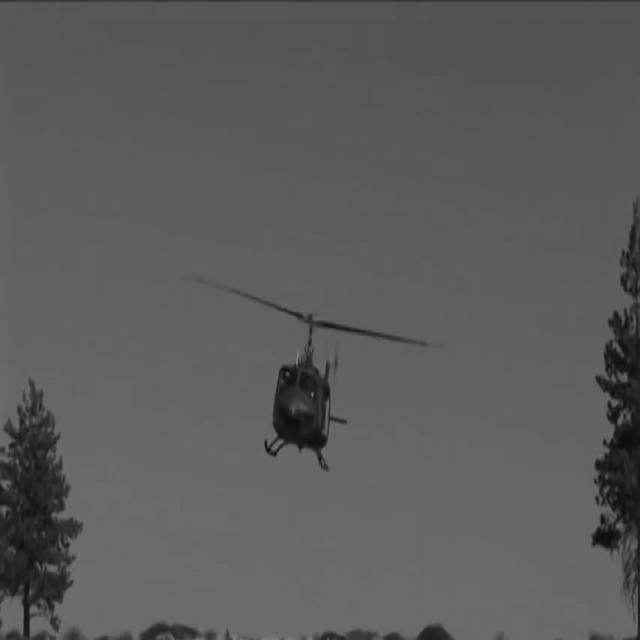helikopter: (201, 286, 405, 486)
